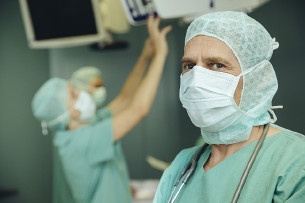Mask: (175, 55, 242, 122)
